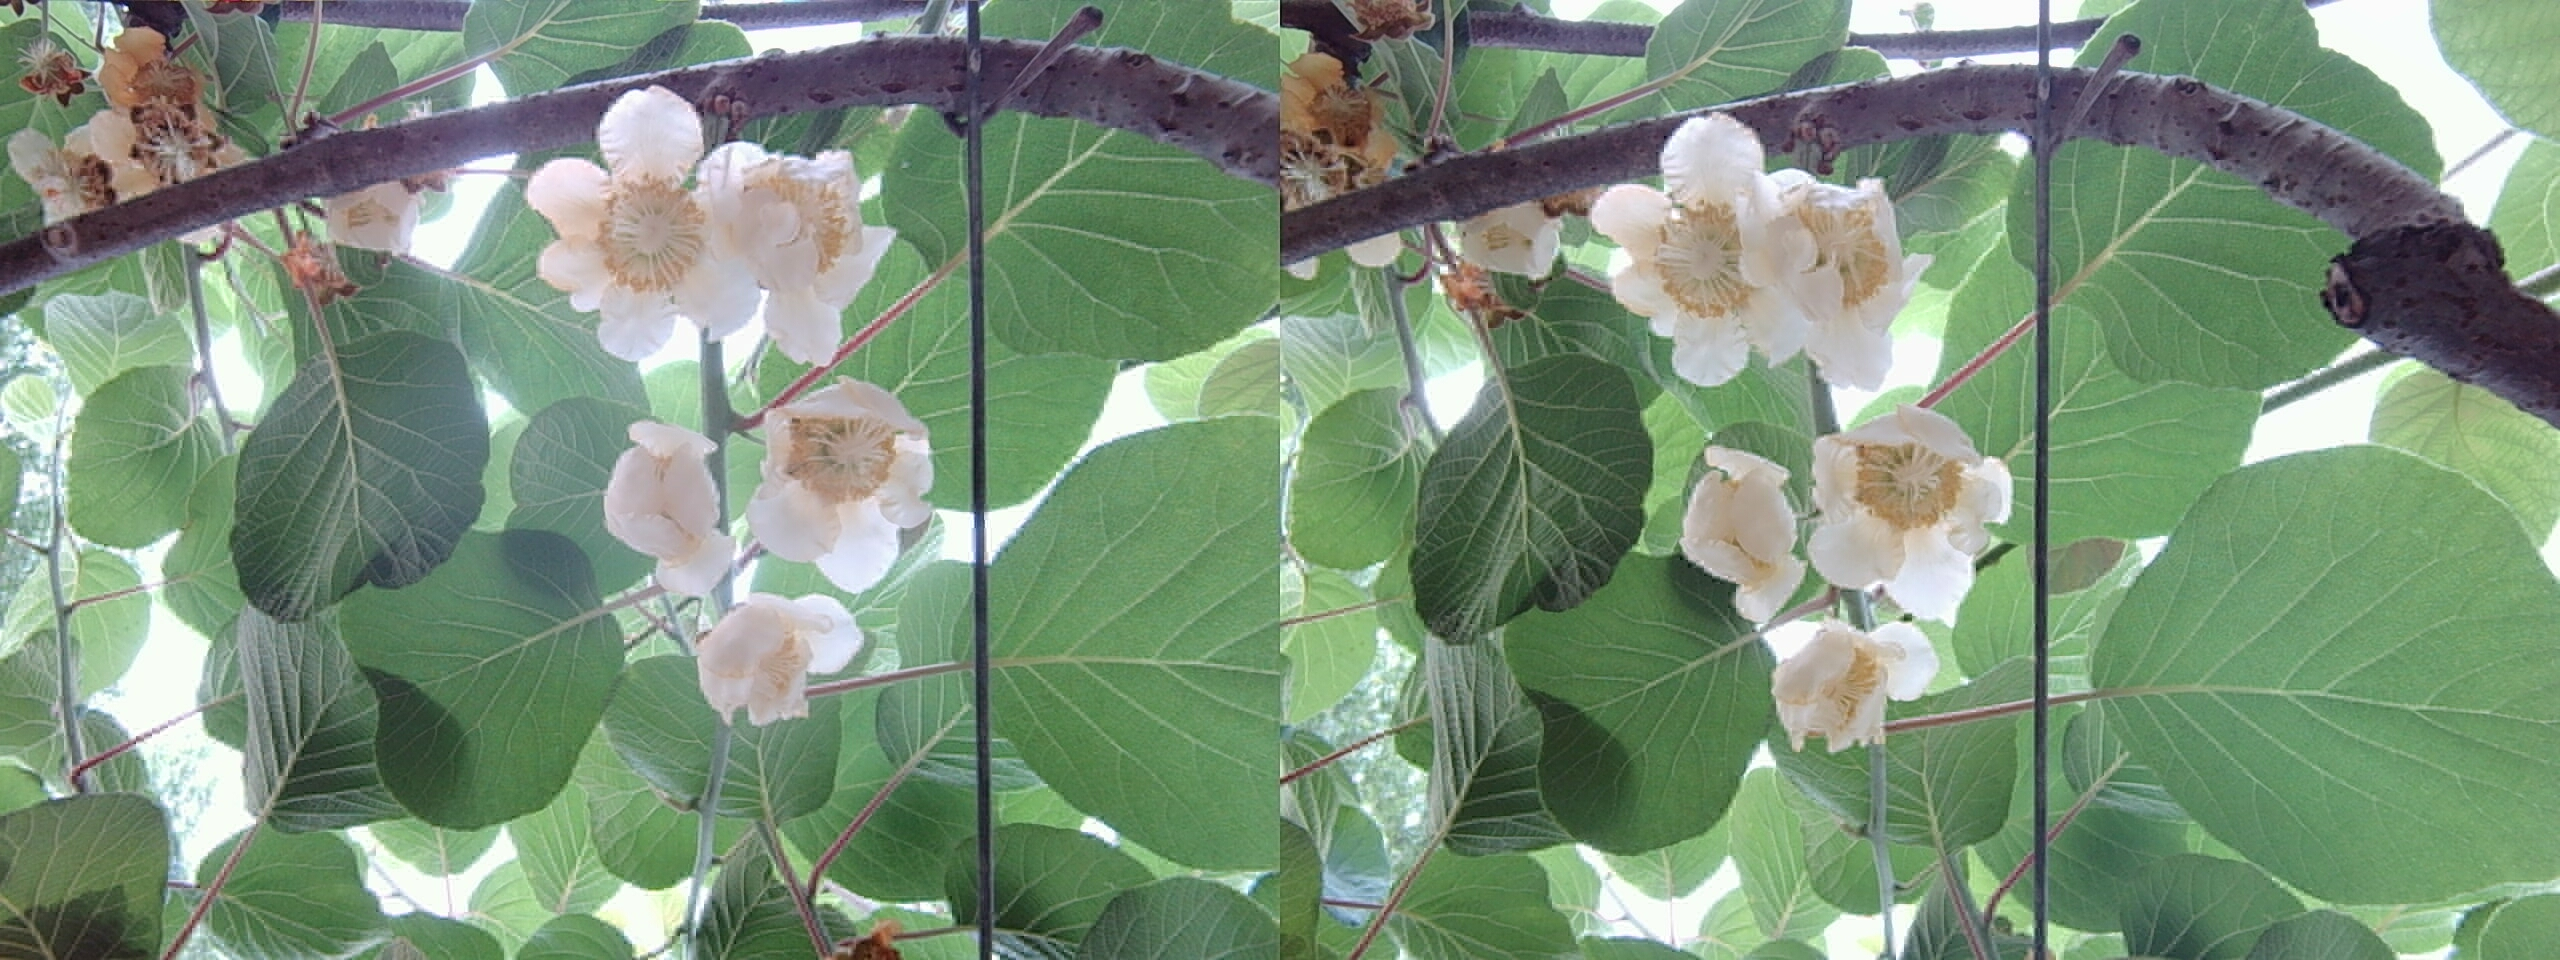flower: (504, 88, 780, 362), (1577, 96, 1807, 380), (1791, 400, 2023, 637), (736, 380, 953, 594), (707, 127, 891, 367), (1770, 157, 1925, 390), (581, 420, 756, 614), (681, 593, 880, 738), (1682, 434, 1807, 625), (1770, 619, 1925, 748)
